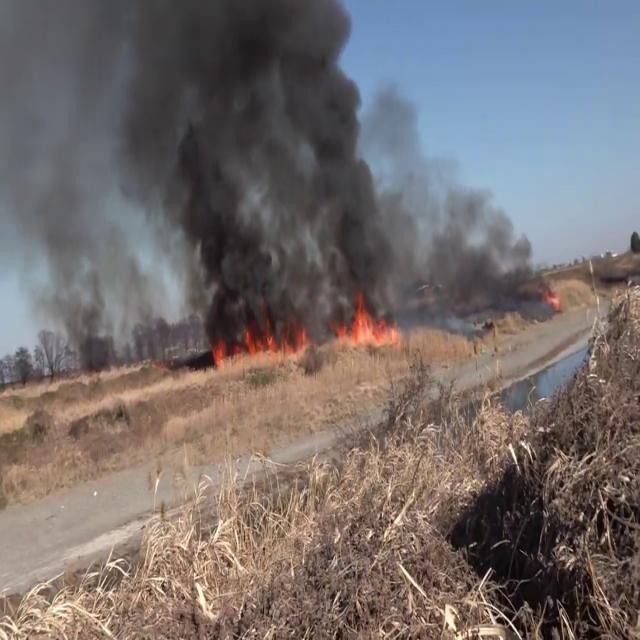Fire: (206, 310, 311, 368), (340, 287, 402, 351)
Smoke: (106, 0, 418, 333), (0, 1, 156, 368), (404, 170, 556, 312)
